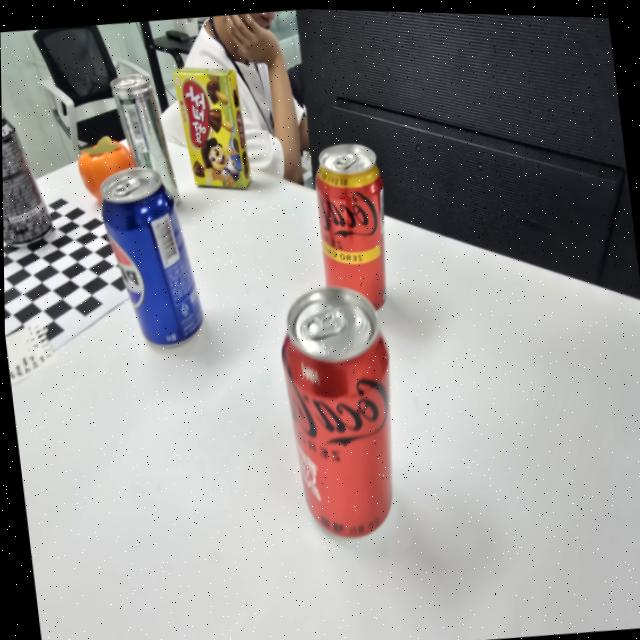can_coke_decaf: (316, 144, 388, 311)
can_coke_zero: (283, 286, 398, 537)
can_pepsi: (100, 166, 207, 346)
